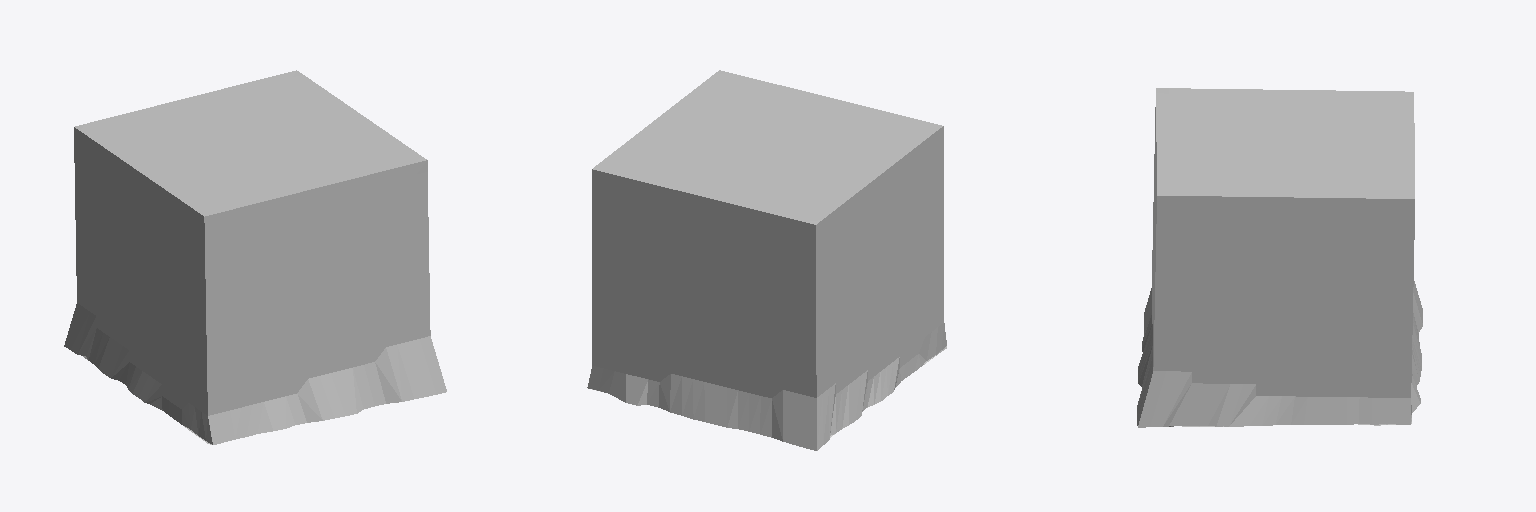
File: mod0082.obj
The picture shows the model from 3 angles: view 1: azimuth 30°, elevation 25°; view 2: azimuth 150°, elevation 25°; view 3: azimuth 270°, elevation 25°; orthographic projection.
Parts seen in each view (by area): view 1: Box001; view 2: Box001; view 3: Box001.
Boxes of the visible parts, x1=… form: Box001: x1=64, y1=70, x2=446, y2=444; Box001: x1=587, y1=70, x2=946, y2=450; Box001: x1=1137, y1=88, x2=1422, y2=427.
Size of the model in its own units: 0.5799 by 0.5247 by 0.5979.